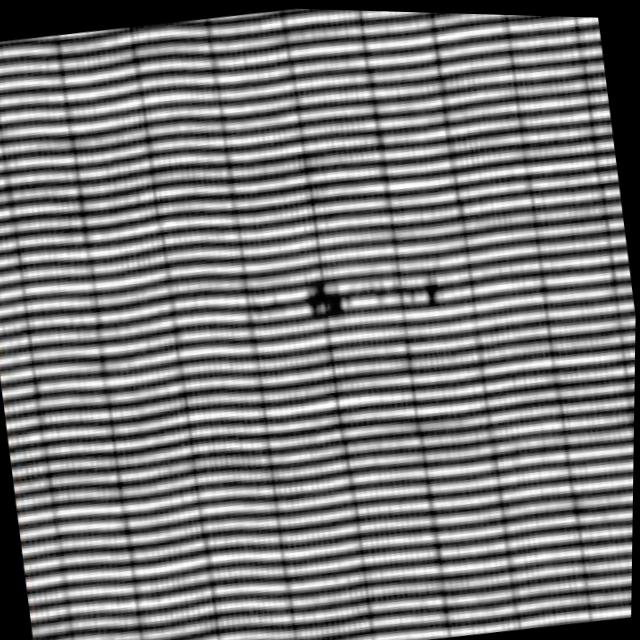Stitch: (289, 239, 454, 348)
